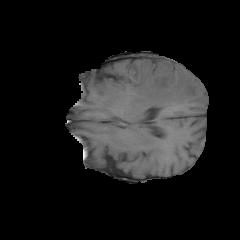glioma: (127, 59, 198, 109)
